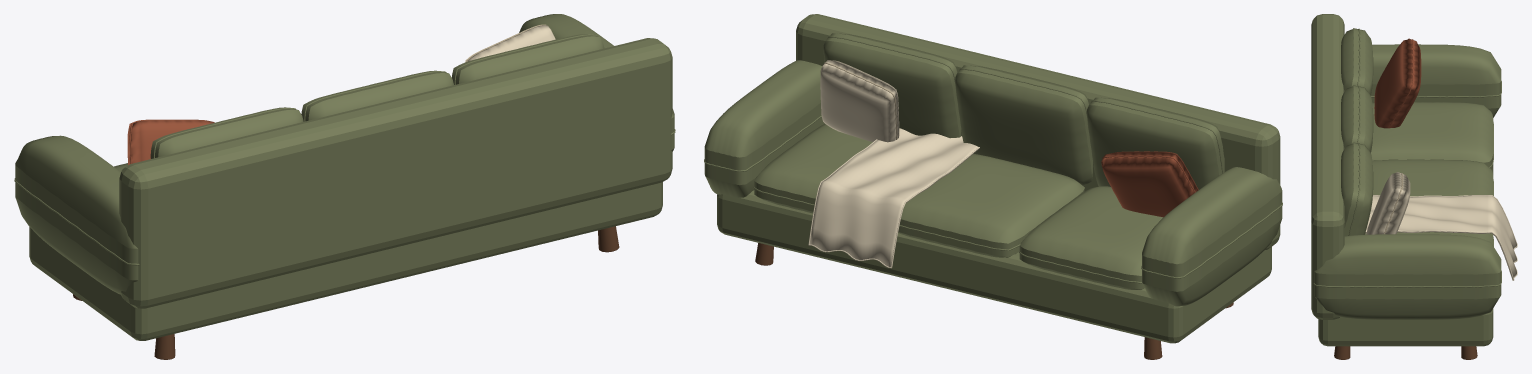
File: sofa.glb
The picture shows the model from 3 angles, left to right: view 1: azimuth 30°, elevation 25°; view 2: azimuth 150°, elevation 25°; view 3: azimuth 270°, elevation 25°; orthographic projection. The views are drawn at different scales.
Parts seen in each view (by area): view 1: sofa__fabric_sage, sofa__fabric_terracotta, sofa__fabric_linen, sofa__wood_walnut; view 2: sofa__fabric_sage, sofa__fabric_linen, sofa__fabric_terracotta, sofa__wood_walnut; view 3: sofa__fabric_sage, sofa__fabric_linen, sofa__fabric_terracotta, sofa__wood_walnut.
Boxes of the visible parts, x1,y1,x2,y2 form: sofa__fabric_sage: (14,14,675,340); sofa__fabric_terracotta: (127,119,214,165); sofa__fabric_linen: (465,25,555,62); sofa__wood_walnut: (73,226,619,359); sofa__fabric_sage: (704,14,1282,343); sofa__fabric_linen: (808,60,979,268); sofa__fabric_terracotta: (1101,151,1198,217); sofa__wood_walnut: (755,243,1233,359); sofa__fabric_sage: (1311,14,1501,346); sofa__fabric_linen: (1365,172,1517,280); sofa__fabric_terracotta: (1374,38,1421,128); sofa__wood_walnut: (1334,346,1477,359).
Size of the model in its own units: 2.8 by 1.03 by 1.17.
